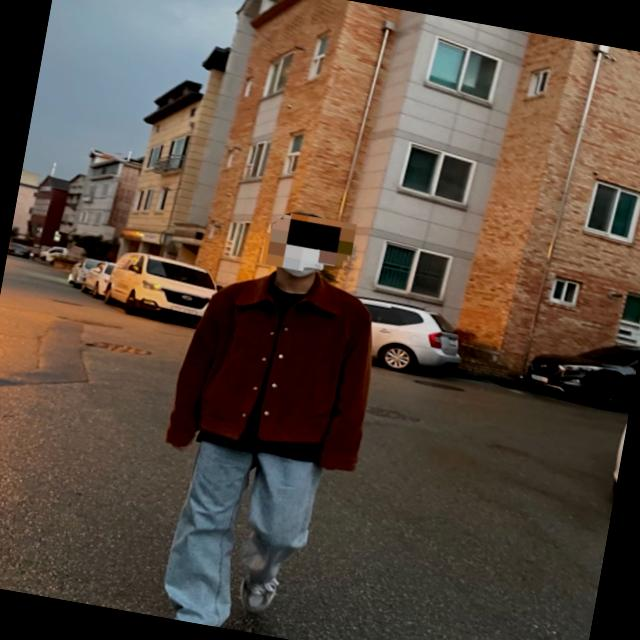denimpants: (159, 424, 330, 640)
jacket: (166, 248, 391, 474)
